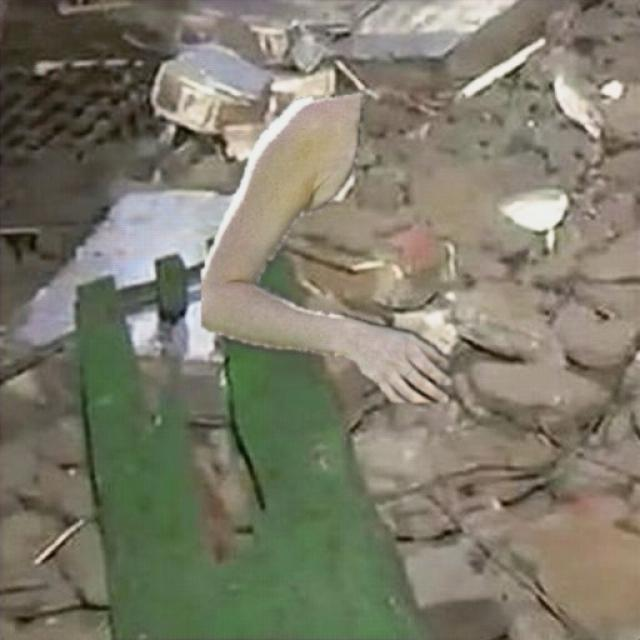Person in Rubble: (201, 92, 450, 402)
